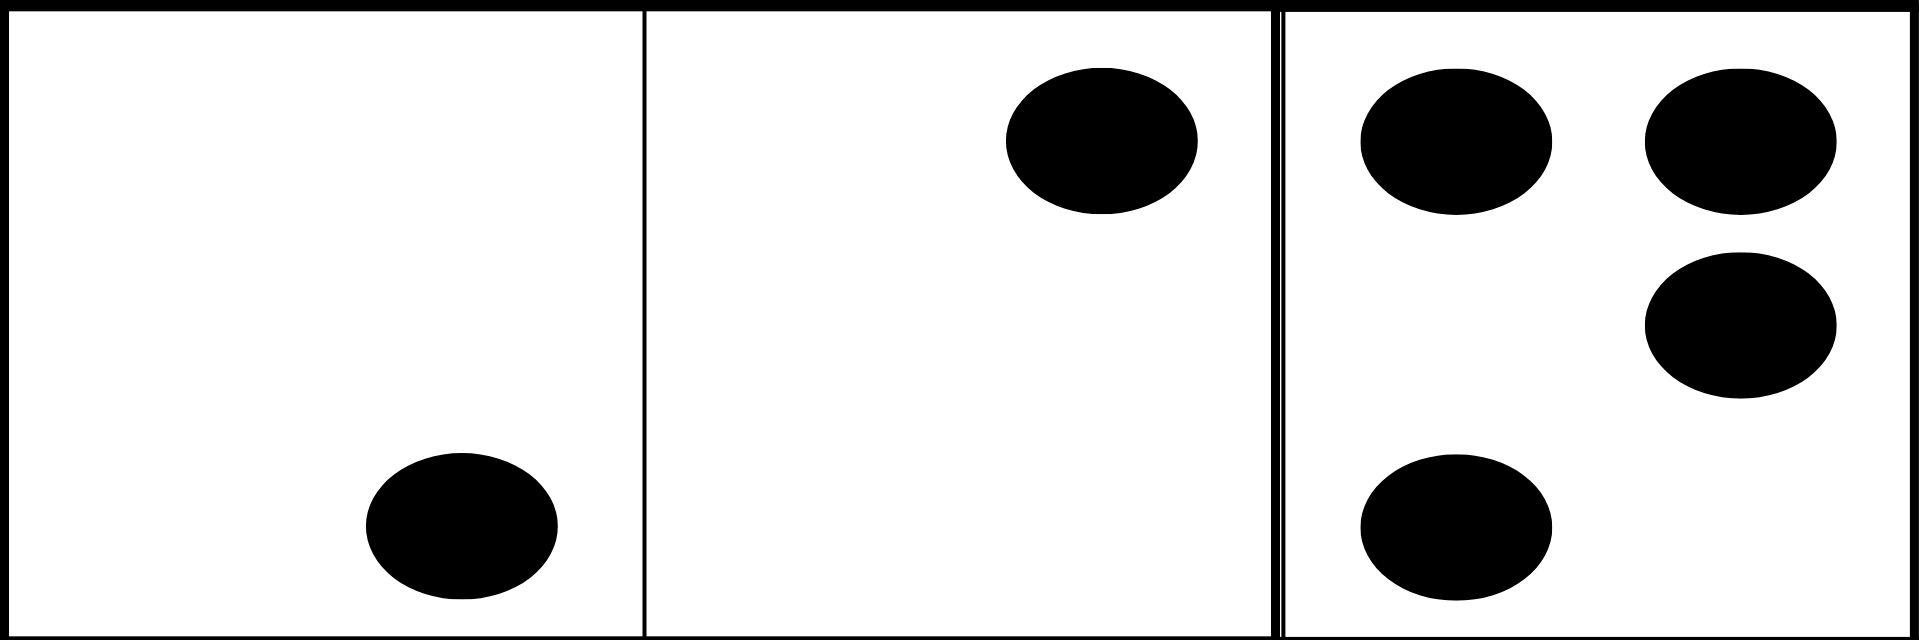capital: (91, 62, 560, 601)
dot_4: (726, 66, 1201, 596)
enye: (1356, 69, 1839, 601)
